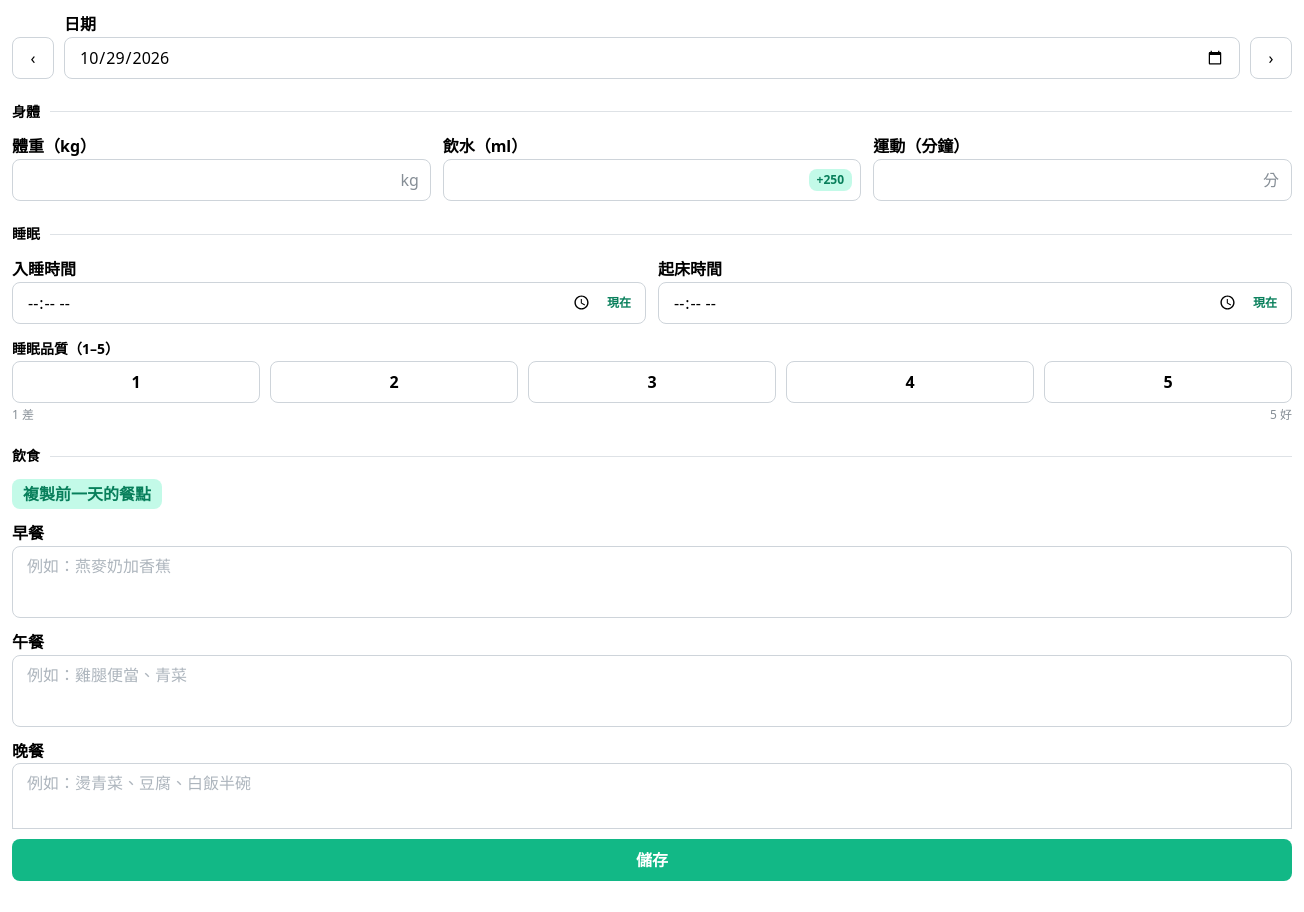
Test: EntryForm：快速輸入 › 複製前一天的餐點 › 把前一天的餐點帶進空著的餐別，不帶體重、飲水等每天不同的欄位
Click the button "複製前一天的餐點".
click(87, 494)  # box [12, 479, 162, 509]
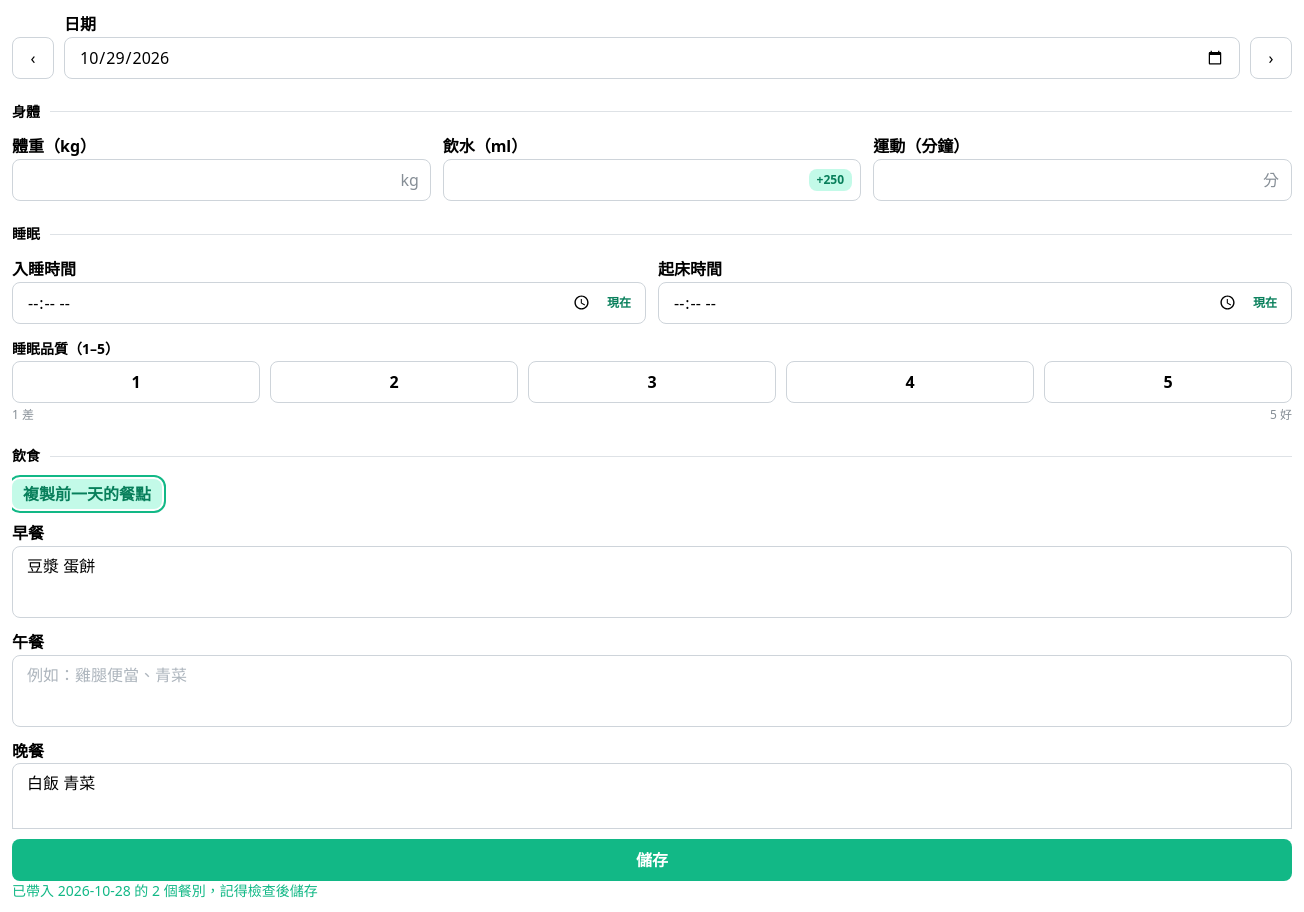
Now the text box labelled "早餐" holds "豆漿 蛋餅", box [12, 546, 1292, 618]
Now the text box labelled "晚餐" holds "白飯 青菜", box [12, 763, 1292, 835]
Now the message shows "已帶入 2026-10-28 的 2 個餐別", box [12, 881, 318, 900]
